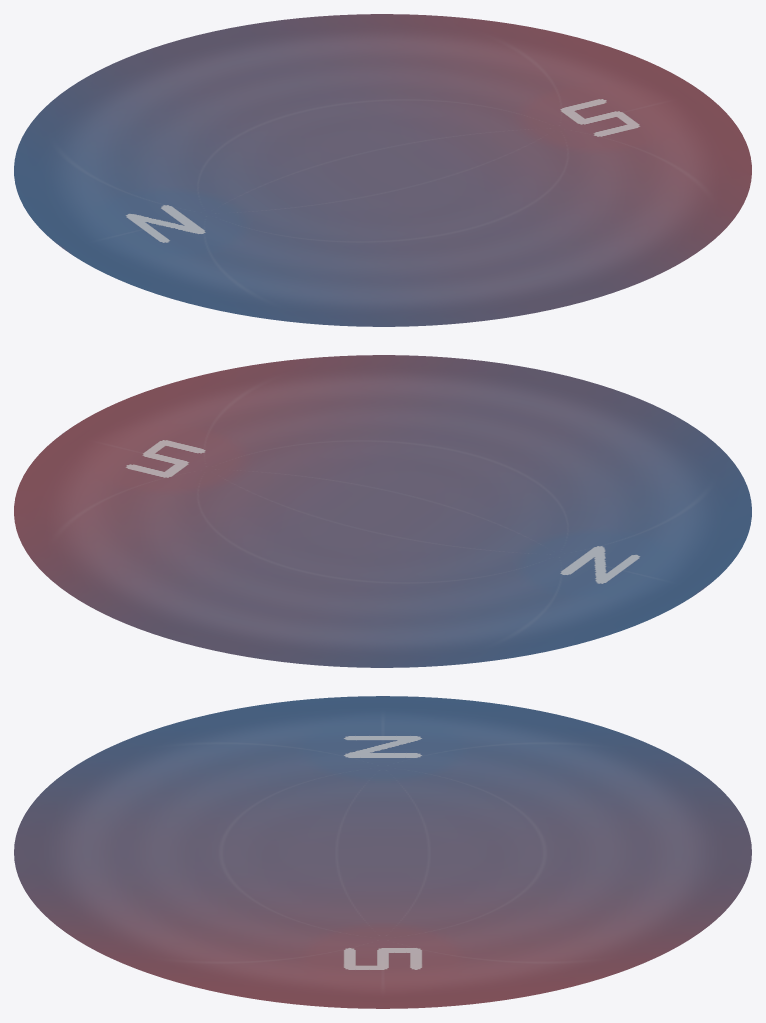
The model's file is MagnetGround.obj.
3 renders of one model, top to bottom at view 1: azimuth 30°, elevation 25°; view 2: azimuth 150°, elevation 25°; view 3: azimuth 270°, elevation 25°, orthographic.
Visible parts, largest first — view 1: MagnetGround, MagnetGroundRim; view 2: MagnetGround, MagnetGroundRim; view 3: MagnetGround, MagnetGroundRim.
Boxes of the visible parts, x1,y1,x2,y2 form: MagnetGround: (14, 19, 751, 326); MagnetGroundRim: (14, 14, 751, 325); MagnetGround: (14, 360, 751, 667); MagnetGroundRim: (14, 355, 751, 666); MagnetGround: (14, 701, 751, 1008); MagnetGroundRim: (14, 696, 751, 1007).
Size of the model in its own units: 40 by 0.055 by 40.
Materials: 1 (1 with a texture image).
